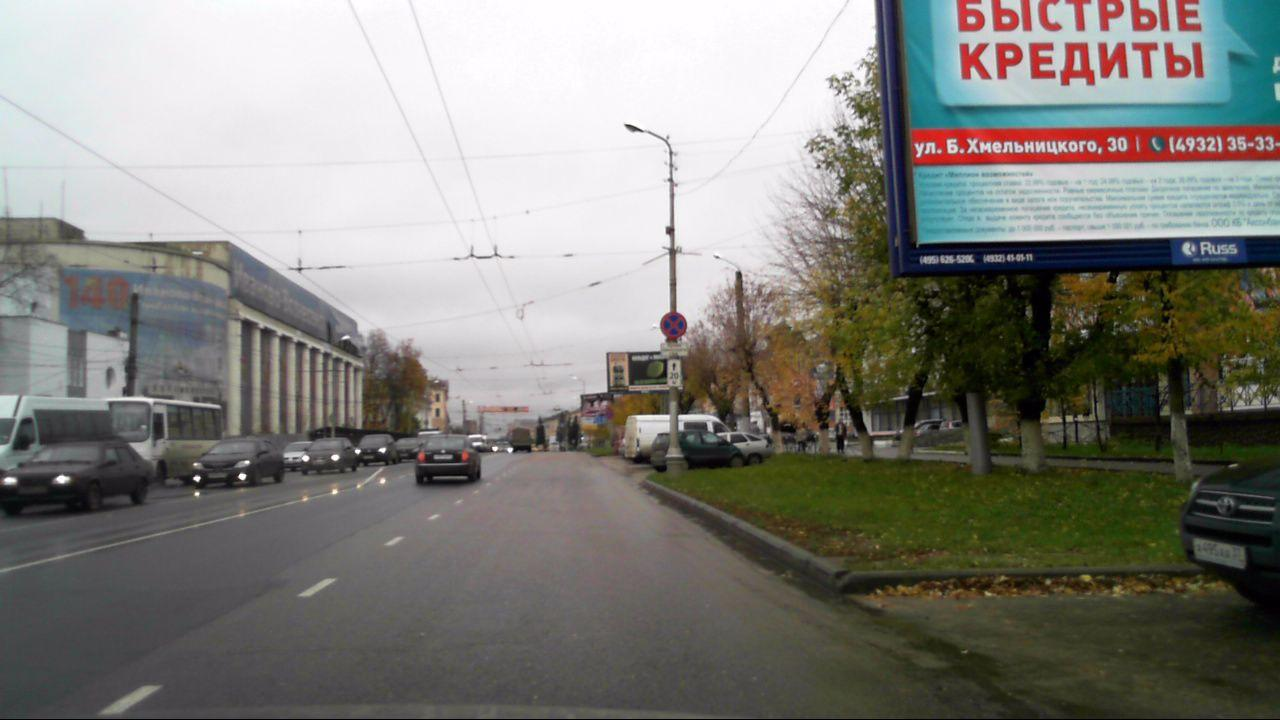road_sign: (659, 311, 688, 340), (667, 360, 682, 386)
